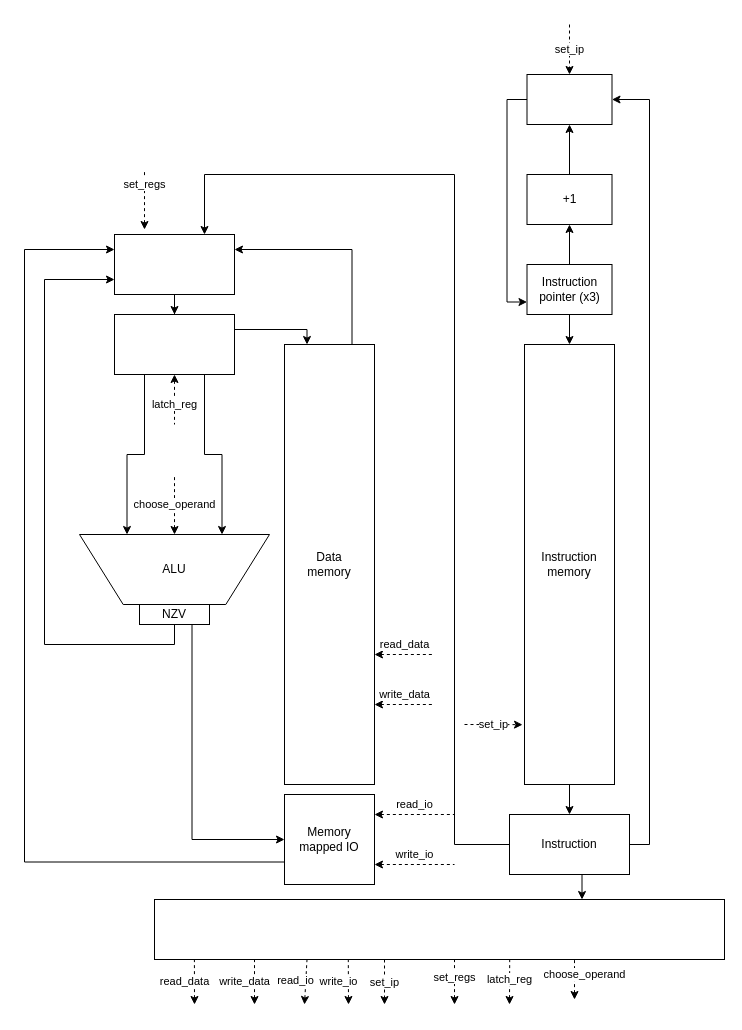
This 742x1030 diagram has some shape labels left out. The box of each missing label's shape, as (x1, y1, x2, y2) in pixels:
Instruction decoder: (154, 898, 724, 960)
IP MUX: (526, 74, 612, 124)
REG MUX: (114, 234, 234, 294)
Registers (x0 - x15): (114, 314, 234, 374)
